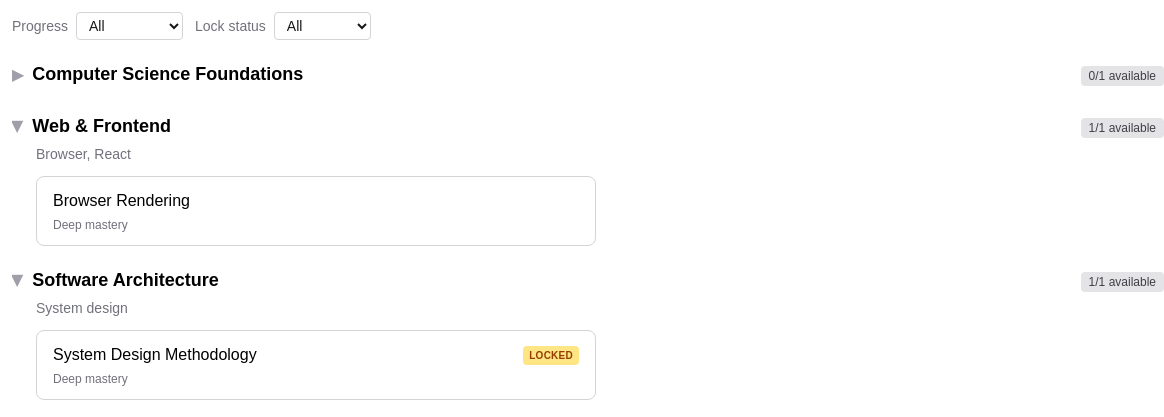
CurriculumTree › filters sections by progress status
Select "Mastered" in the dropdown labelled "Progress" at (130,26), box [76,12,183,40]
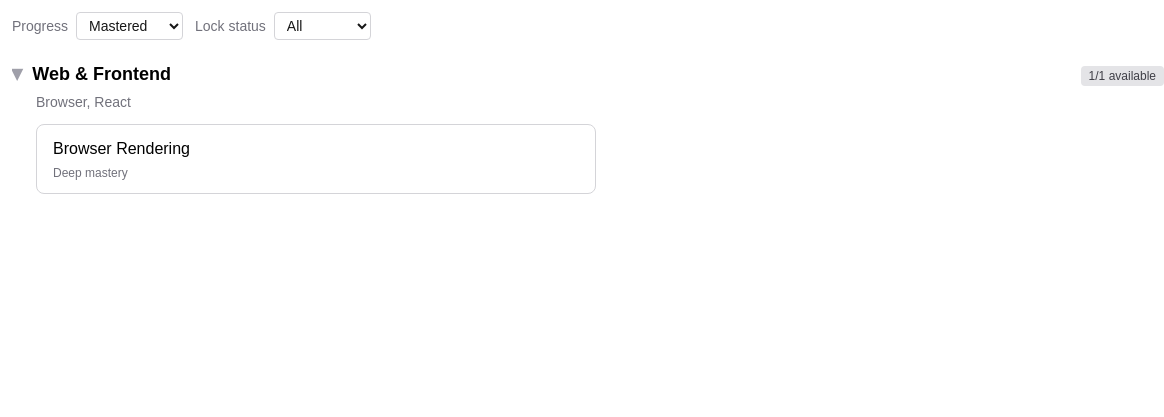
Expected: the text "Browser Rendering" is shown, [53,140,190,157]
Now the link "System Design Methodology" is gone
